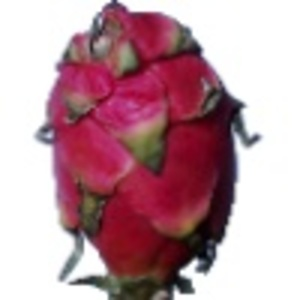pitaia: (35, 1, 265, 300)
